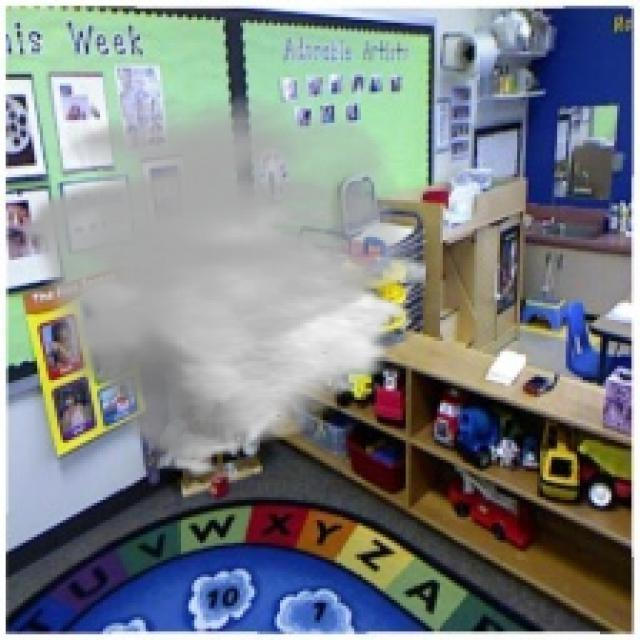Smoke: (20, 94, 426, 480)
